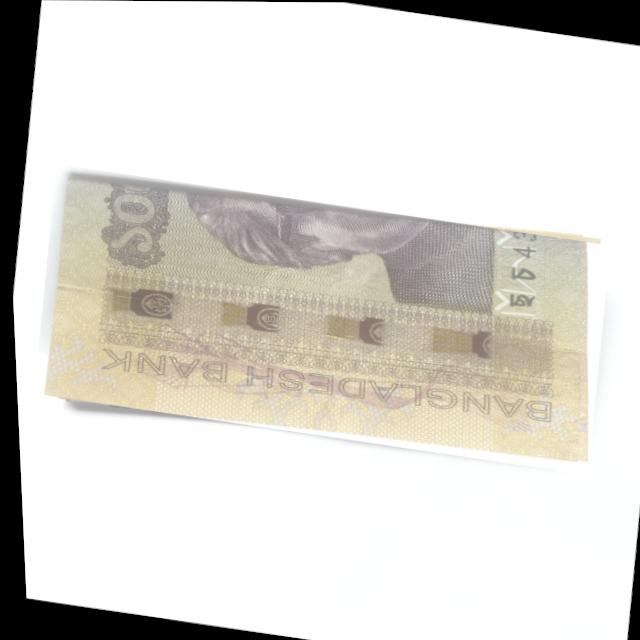Taka: (23, 164, 616, 474)
